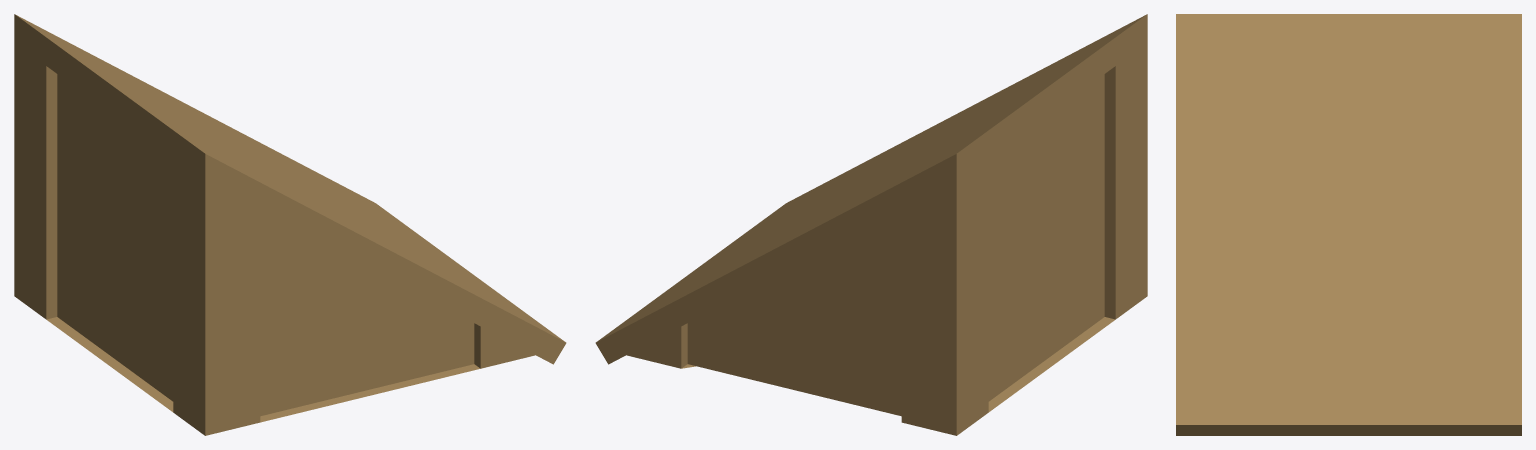
File: roof_slant_green_01.glb
The picture shows the model from 3 angles, left to right: view 1: azimuth 30°, elevation 25°; view 2: azimuth 150°, elevation 25°; view 3: azimuth 270°, elevation 25°; orthographic projection. The views are drawn at different scales.
Parts seen in each view (by area): view 1: Mesh1 Roof_Slant_Green Model; view 2: Mesh1 Roof_Slant_Green Model; view 3: Mesh1 Roof_Slant_Green Model.
Boxes of the visible parts, left/top/right/bottom form: Mesh1 Roof_Slant_Green Model: left=14, top=14, right=566, bottom=435; Mesh1 Roof_Slant_Green Model: left=595, top=14, right=1147, bottom=435; Mesh1 Roof_Slant_Green Model: left=1176, top=14, right=1521, bottom=435.
Bounding box in the file's own units: 3.28 × 2.57 × 3.
